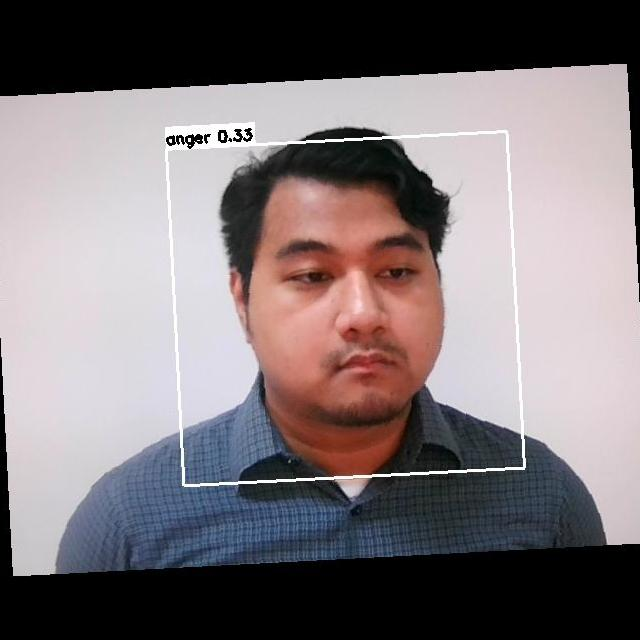Natural: (248, 231, 452, 398)
